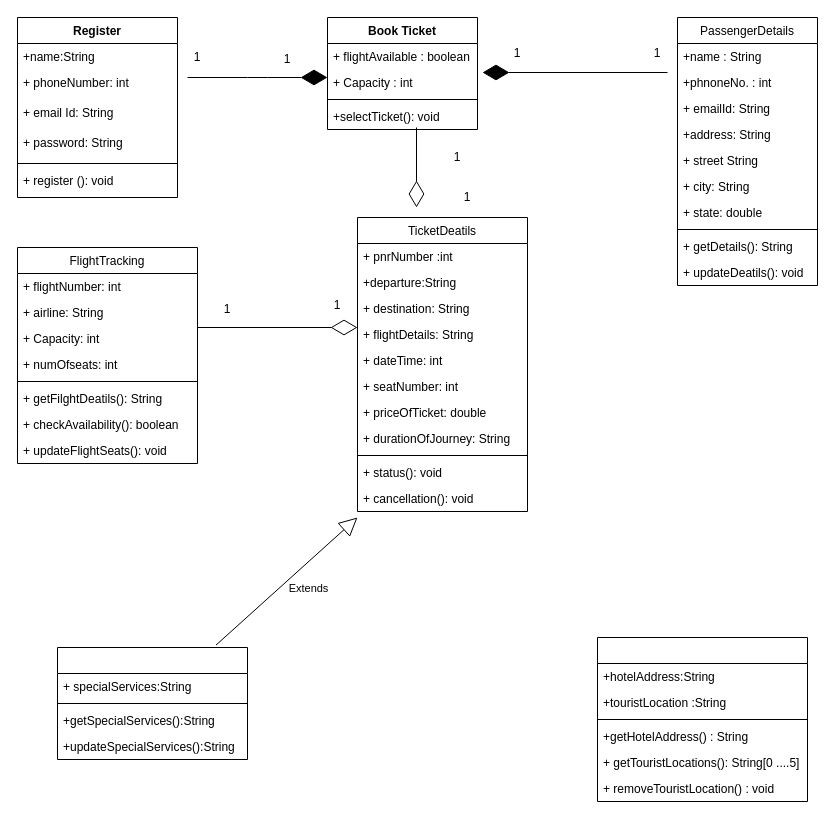
Image size: 835x822. Some labels were removed from this diagram. Each missing label, with the box of its shape:
RegularTicket: (56, 646, 248, 760)
TouristTicket: (596, 636, 808, 802)
